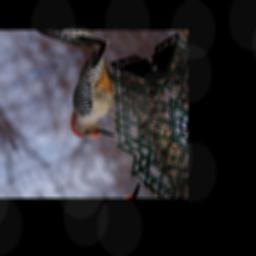Woodpecker: (41, 43, 147, 150)
